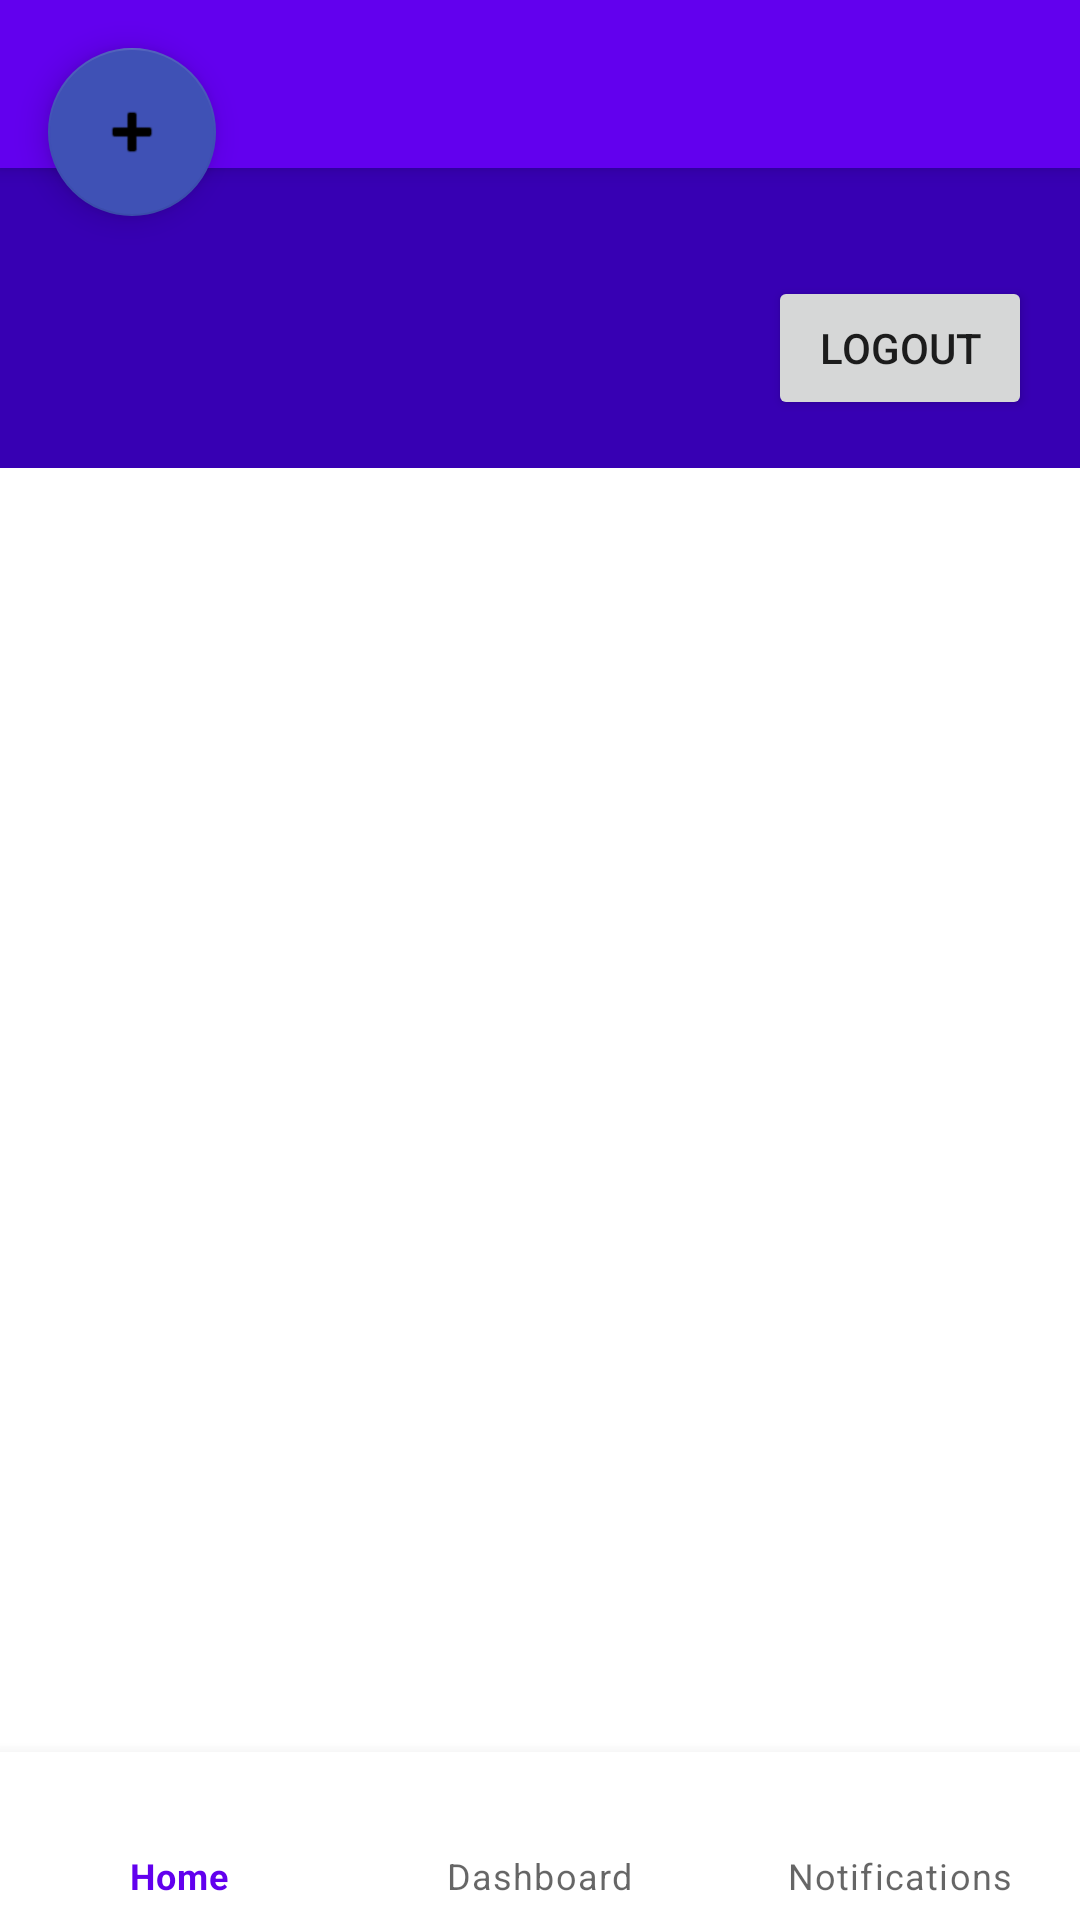

Where to tap for icons on this 1080px x 1920px app screen, as (x=x, y=y):
add: (x=132, y=132)
